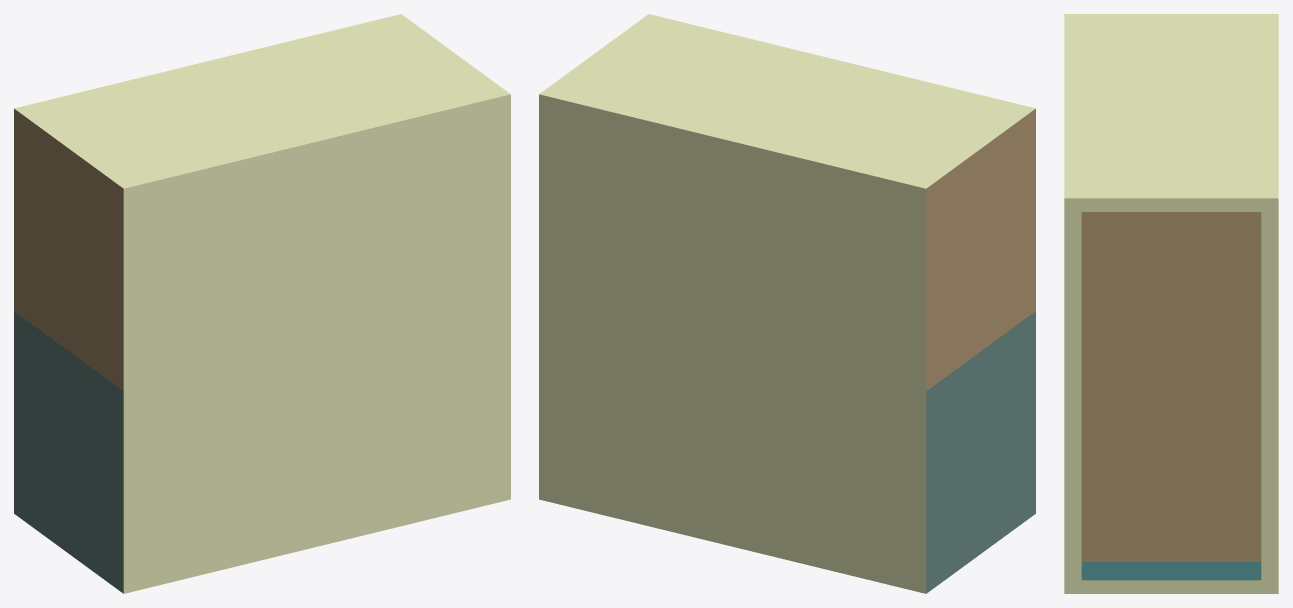
Rendered from VentanaSimple.fbx.
3 renders of one model, left to right at view 1: azimuth 30°, elevation 25°; view 2: azimuth 150°, elevation 25°; view 3: azimuth 270°, elevation 25°, orthographic. The views are drawn at different scales.
Visible parts, largest first — view 1: Cube.029; view 2: Cube.029; view 3: Cube.029.
Boxes of the visible parts, left/top/right/bottom form: Cube.029: left=14, top=14, right=510, bottom=593; Cube.029: left=539, top=14, right=1035, bottom=593; Cube.029: left=1064, top=14, right=1278, bottom=593.
Bounding box in the file's own units: 50 × 50 × 24.54.
